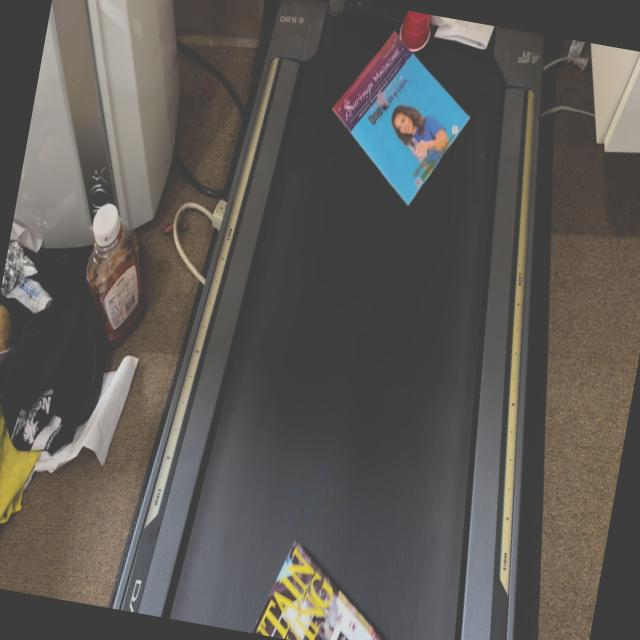Recycle: (316, 23, 482, 215), (249, 533, 421, 640)
